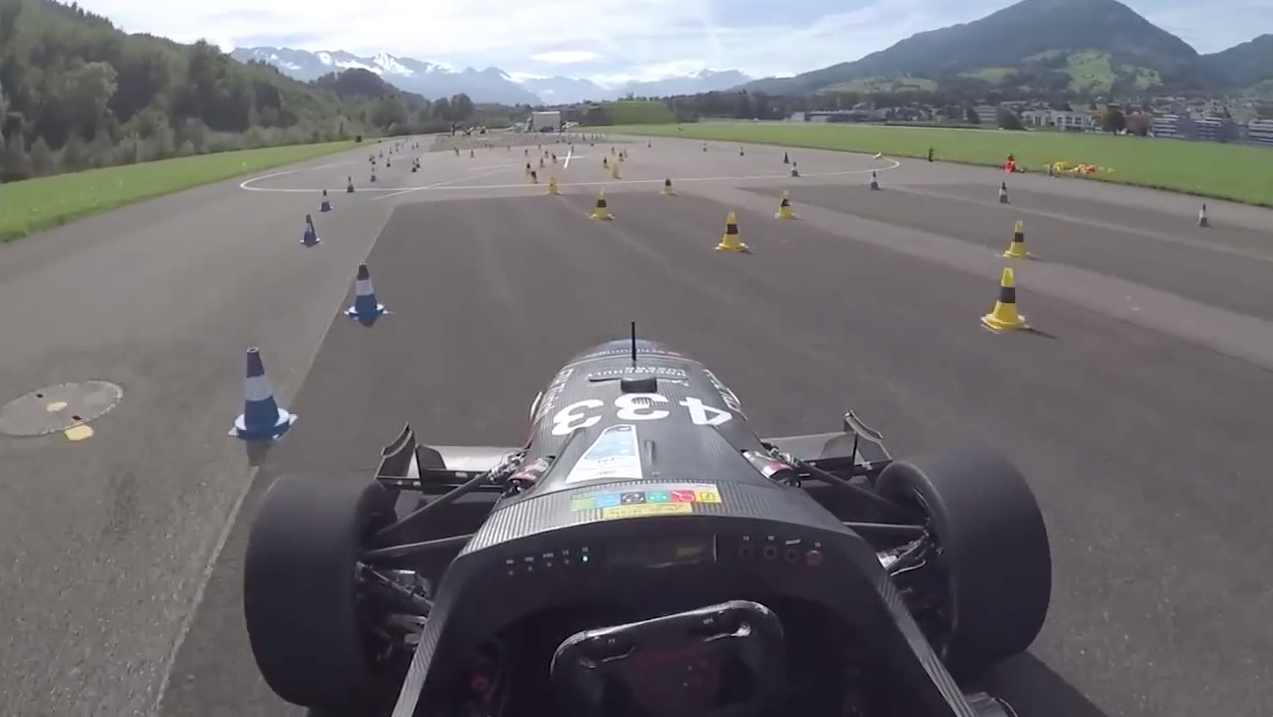lcone: (217, 336, 303, 450), (338, 260, 390, 328), (294, 211, 323, 247)
rcone: (972, 264, 1034, 339), (711, 207, 754, 256), (996, 214, 1035, 263), (587, 187, 616, 223), (772, 185, 799, 220)
